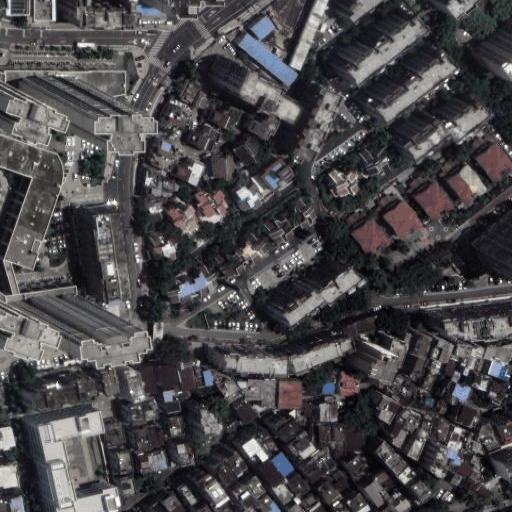building: (25, 408, 111, 512), (0, 138, 61, 272), (328, 4, 409, 70), (358, 44, 438, 109), (209, 54, 278, 107), (75, 203, 115, 294), (374, 442, 433, 503), (289, 89, 336, 165), (236, 33, 298, 86), (5, 70, 125, 97), (15, 291, 85, 330), (426, 302, 512, 333), (40, 77, 102, 117), (29, 377, 97, 411), (285, 323, 347, 360), (428, 88, 475, 130), (477, 214, 512, 270), (475, 21, 512, 73), (346, 215, 389, 258), (380, 197, 422, 240), (294, 253, 338, 293), (411, 179, 452, 221), (257, 278, 301, 317), (472, 139, 512, 181), (389, 109, 432, 148), (443, 163, 483, 204), (166, 203, 204, 242), (215, 346, 278, 368), (259, 157, 296, 194), (140, 170, 177, 205), (478, 344, 512, 382), (357, 144, 392, 180), (195, 188, 231, 221), (391, 409, 421, 448), (410, 387, 450, 416), (147, 230, 182, 262), (165, 279, 201, 310), (191, 263, 221, 300), (444, 401, 482, 429), (361, 286, 414, 306), (290, 197, 322, 230), (241, 232, 273, 265), (161, 98, 194, 130), (379, 336, 410, 370), (410, 334, 432, 381), (262, 216, 293, 249), (213, 251, 244, 284), (329, 168, 361, 199), (343, 313, 381, 339), (172, 158, 207, 186), (208, 105, 244, 132), (179, 79, 210, 110), (385, 377, 416, 408), (230, 183, 263, 212), (186, 126, 222, 152), (408, 421, 432, 459), (235, 135, 265, 165), (149, 138, 177, 170), (476, 422, 504, 451), (441, 379, 471, 406), (247, 116, 280, 140), (331, 426, 362, 451), (188, 398, 213, 429), (254, 430, 280, 459), (340, 207, 369, 232), (377, 394, 401, 424), (209, 156, 239, 180), (259, 460, 285, 487), (0, 450, 26, 476), (241, 438, 266, 465), (270, 479, 295, 506), (426, 338, 453, 363), (482, 378, 509, 403), (364, 480, 386, 509), (158, 491, 188, 512), (125, 369, 146, 399), (283, 473, 308, 498), (292, 435, 317, 460), (217, 377, 242, 402), (205, 481, 229, 507), (374, 189, 400, 213), (467, 133, 493, 157), (448, 363, 474, 387), (464, 346, 487, 373), (349, 341, 371, 369), (179, 481, 203, 506), (318, 480, 342, 505), (250, 16, 275, 40), (271, 450, 294, 476), (276, 419, 302, 442), (450, 341, 473, 367), (278, 381, 300, 407), (438, 157, 464, 179), (431, 447, 450, 477), (160, 364, 181, 391), (226, 454, 249, 478), (252, 493, 281, 512), (407, 172, 432, 194), (302, 460, 325, 483), (244, 478, 266, 502), (215, 463, 237, 486), (233, 487, 255, 510), (491, 447, 512, 471), (141, 366, 157, 396), (178, 367, 197, 392), (425, 358, 441, 387), (315, 452, 336, 474), (235, 401, 256, 423), (339, 373, 359, 396), (261, 381, 278, 407), (468, 372, 489, 393), (101, 371, 119, 395), (176, 443, 194, 466), (449, 426, 466, 450), (106, 423, 125, 444), (346, 495, 369, 512), (116, 451, 133, 473), (129, 403, 145, 426), (330, 473, 348, 493), (134, 430, 151, 451), (320, 402, 337, 422), (142, 401, 159, 421), (168, 417, 185, 437), (213, 498, 237, 512), (467, 481, 488, 497), (498, 422, 512, 444), (7, 495, 25, 512), (147, 427, 163, 446), (373, 470, 390, 487), (119, 478, 135, 496), (151, 453, 167, 471), (437, 420, 450, 441), (139, 455, 154, 473), (246, 381, 261, 398), (321, 382, 340, 395), (456, 462, 472, 477), (394, 499, 412, 512), (305, 502, 327, 512), (0, 409, 9, 432), (334, 501, 352, 512), (320, 426, 331, 444), (202, 369, 213, 387), (452, 472, 465, 487), (166, 400, 180, 413), (148, 502, 165, 512), (402, 330, 413, 343), (198, 504, 214, 512), (241, 504, 257, 512), (288, 504, 304, 512), (381, 504, 397, 512), (165, 391, 176, 402), (239, 381, 246, 387)
